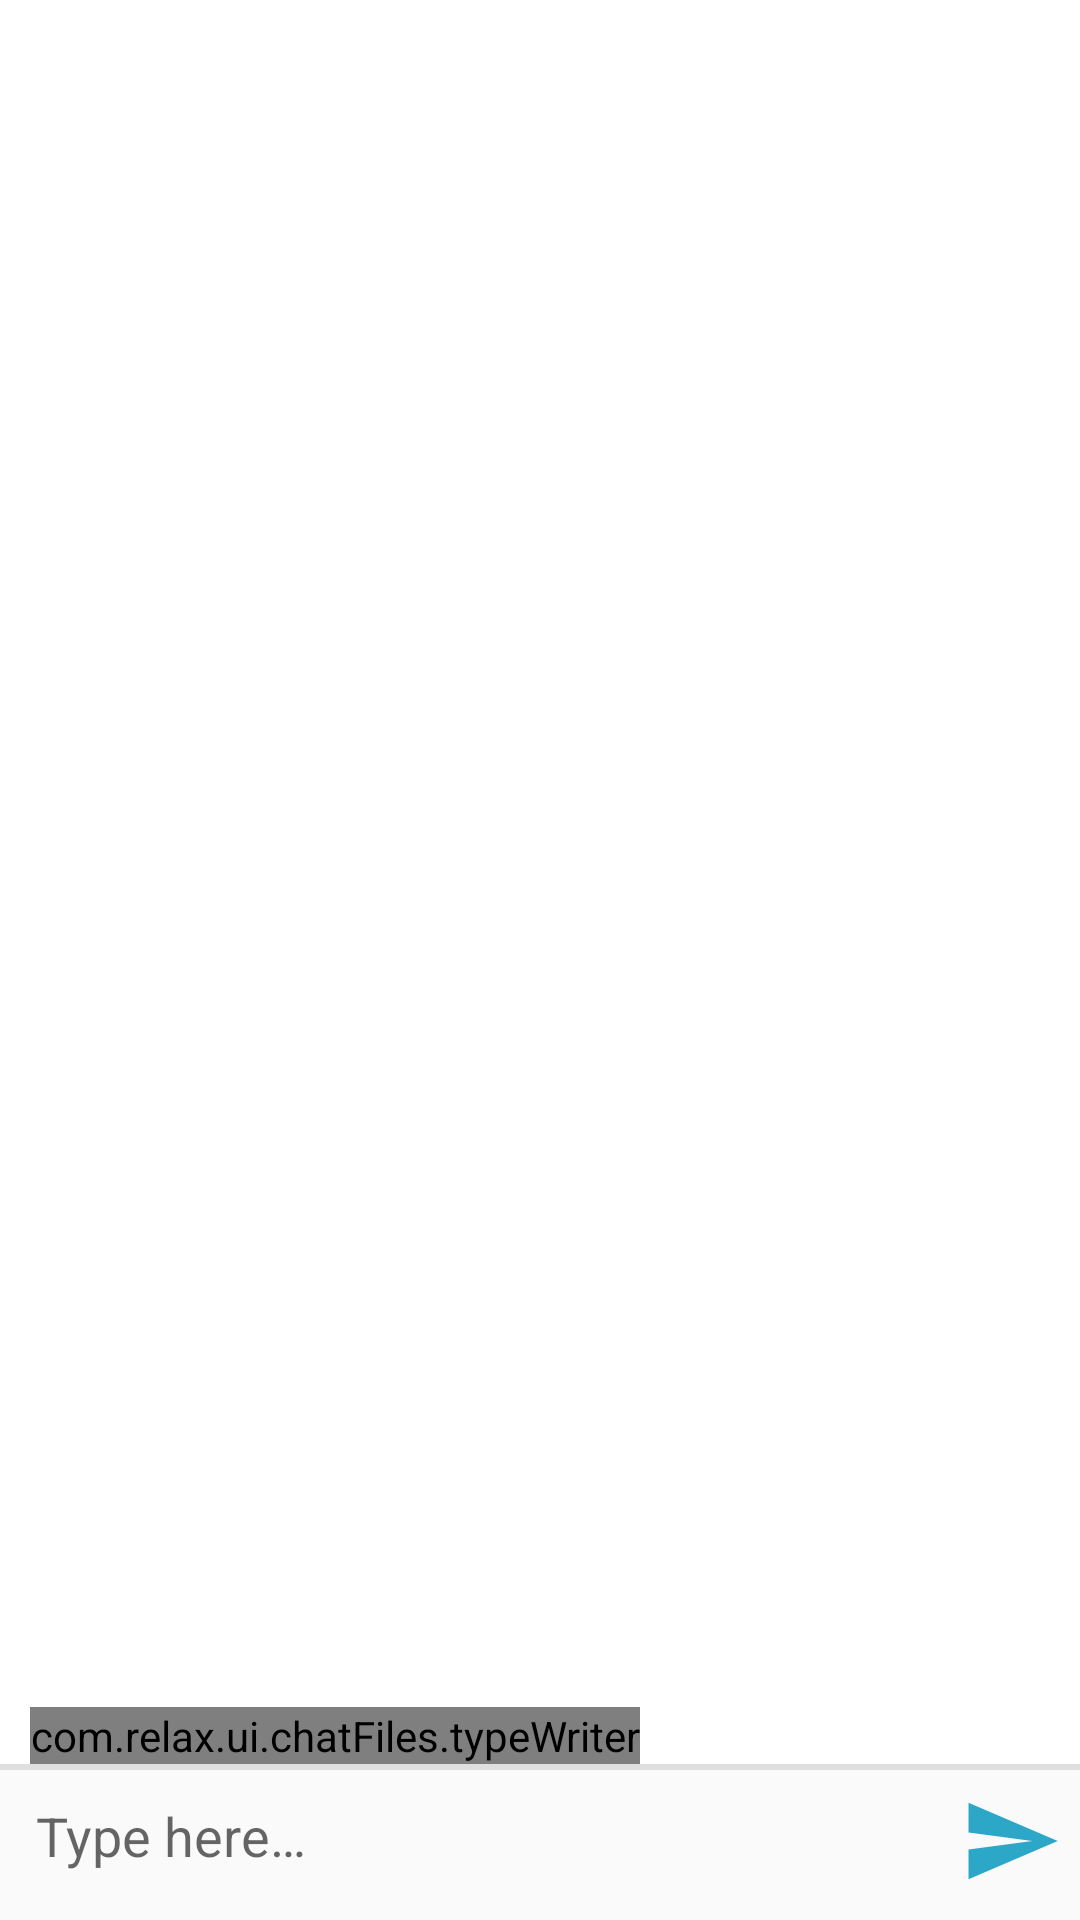

Icon bounding boxes for this 1080 x 1920 phone screenshot, format (x1, y1, x2, y2):
send: (968, 1803, 1057, 1879)
